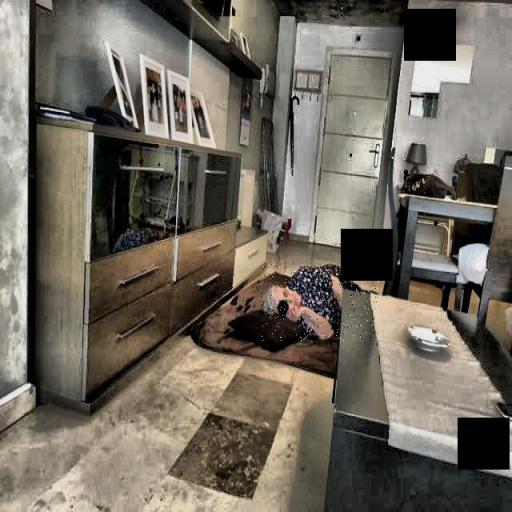Fall: (262, 264, 379, 341)
